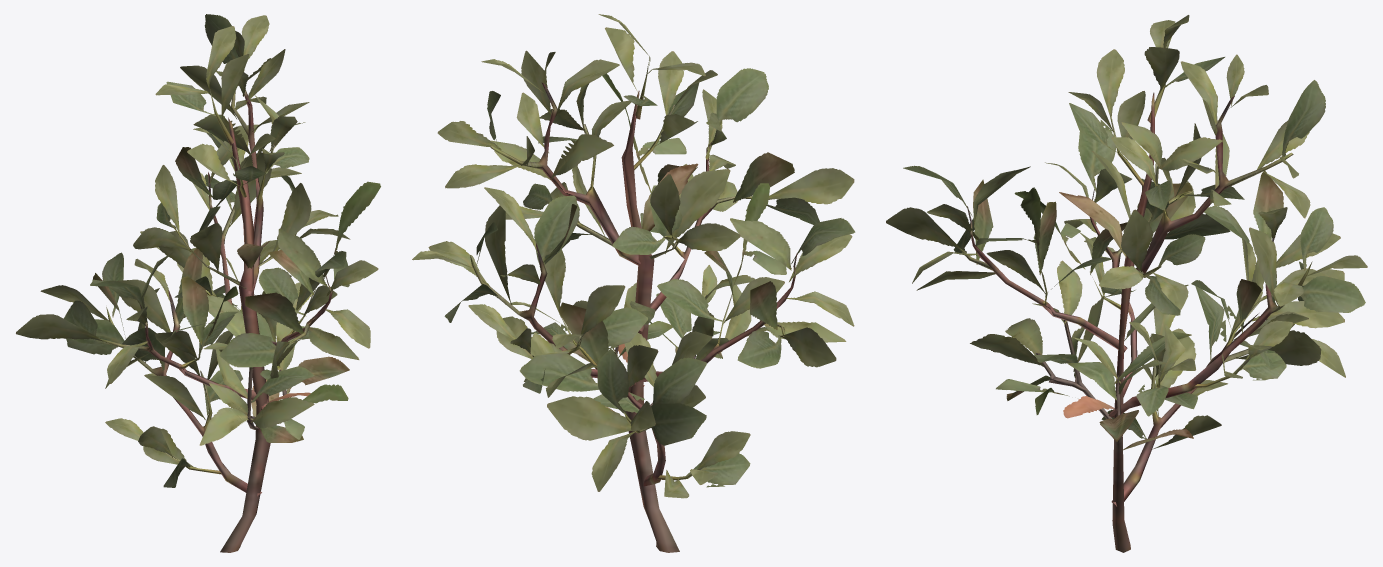
The picture shows the model from 3 angles, left to right: view 1: azimuth 30°, elevation 25°; view 2: azimuth 150°, elevation 25°; view 3: azimuth 270°, elevation 25°; orthographic projection. The views are drawn at different scales.
Parts seen in each view (by area): view 1: shrub_04__a_lod1; view 2: shrub_04__a_lod1; view 3: shrub_04__a_lod1.
Boxes of the visible parts, x1=… form: shrub_04__a_lod1: x1=16, y1=14, x2=380, y2=552; shrub_04__a_lod1: x1=412, y1=14, x2=855, y2=552; shrub_04__a_lod1: x1=886, y1=15, x2=1367, y2=552.
Size of the model in its own units: 0.1131 by 0.1625 by 0.1314.
Materials: 1 (1 with a texture image).
